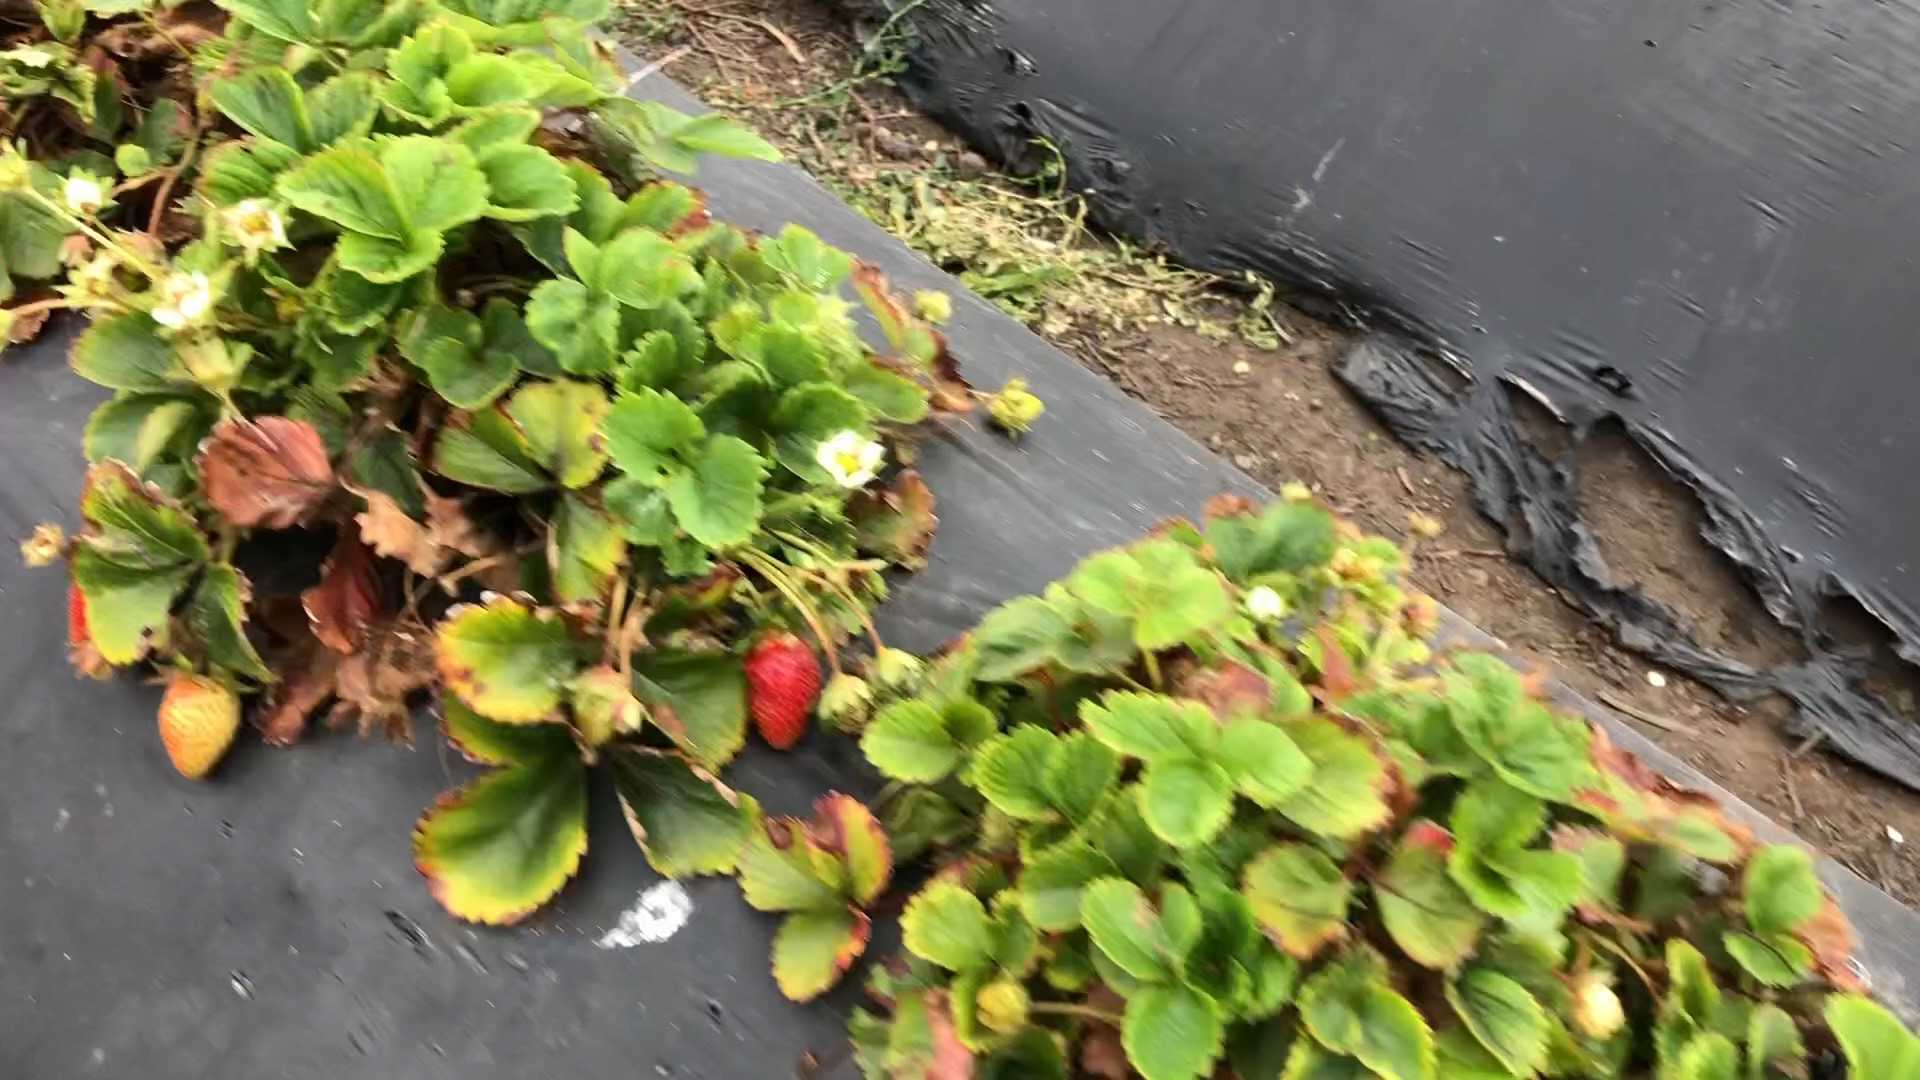ripe_strawberry: (738, 629, 828, 753)
unripe_strawberry: (154, 667, 251, 782)
